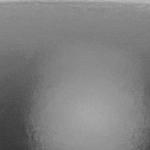colony: (22, 68, 150, 150), (28, 18, 150, 103)
